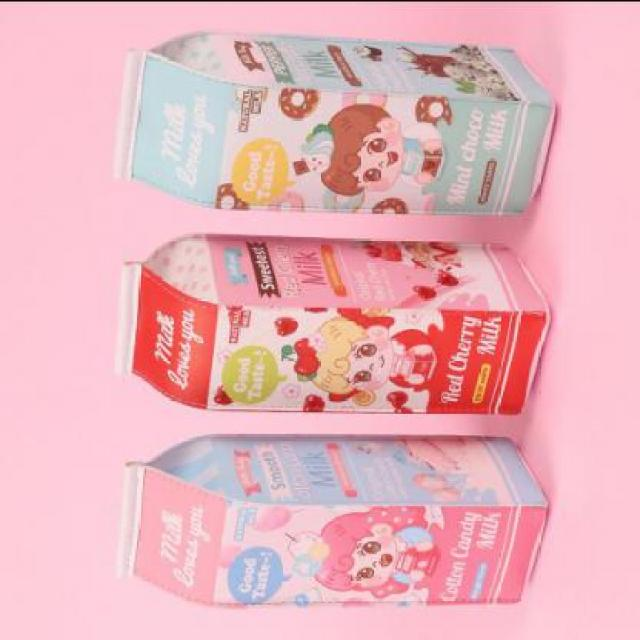non_white_jug: (100, 18, 562, 216), (104, 424, 562, 616), (101, 232, 557, 413)
